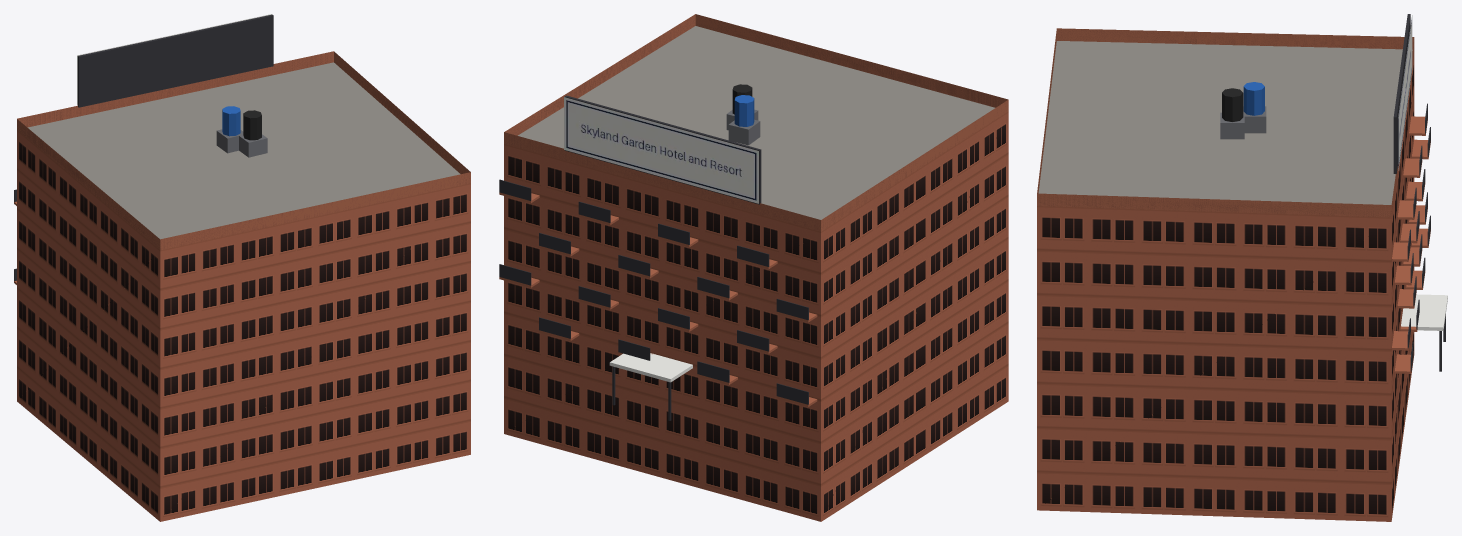
The model's file is hotels-27357-14869.ec993bf0.glb.
3 renders of one model, left to right at view 1: azimuth 30°, elevation 25°; view 2: azimuth 150°, elevation 25°; view 3: azimuth 270°, elevation 25°, orthographic. The views are drawn at different scales.
Bounding box in the file's own units: 27.34 × 26.86 × 26.86.
Materials: 4 (2 with a texture image).
